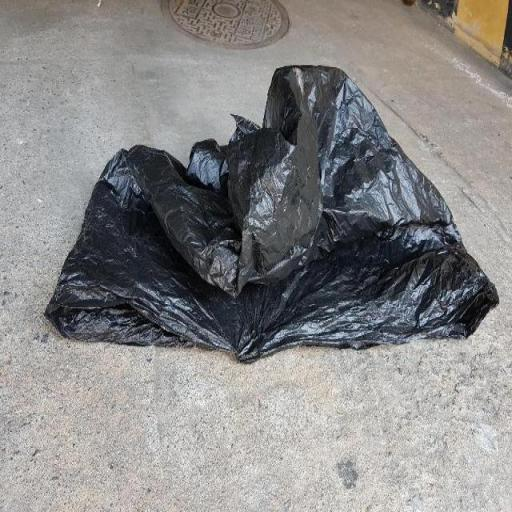plastic-bag: (40, 62, 500, 366)
